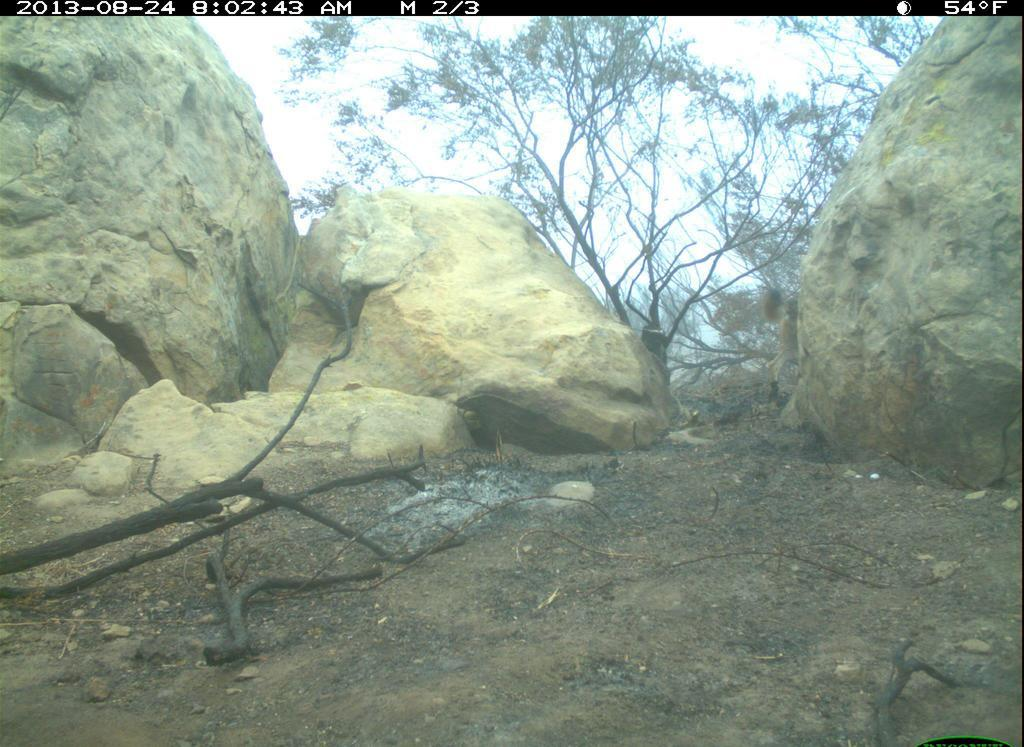coyote: (761, 290, 810, 405)
